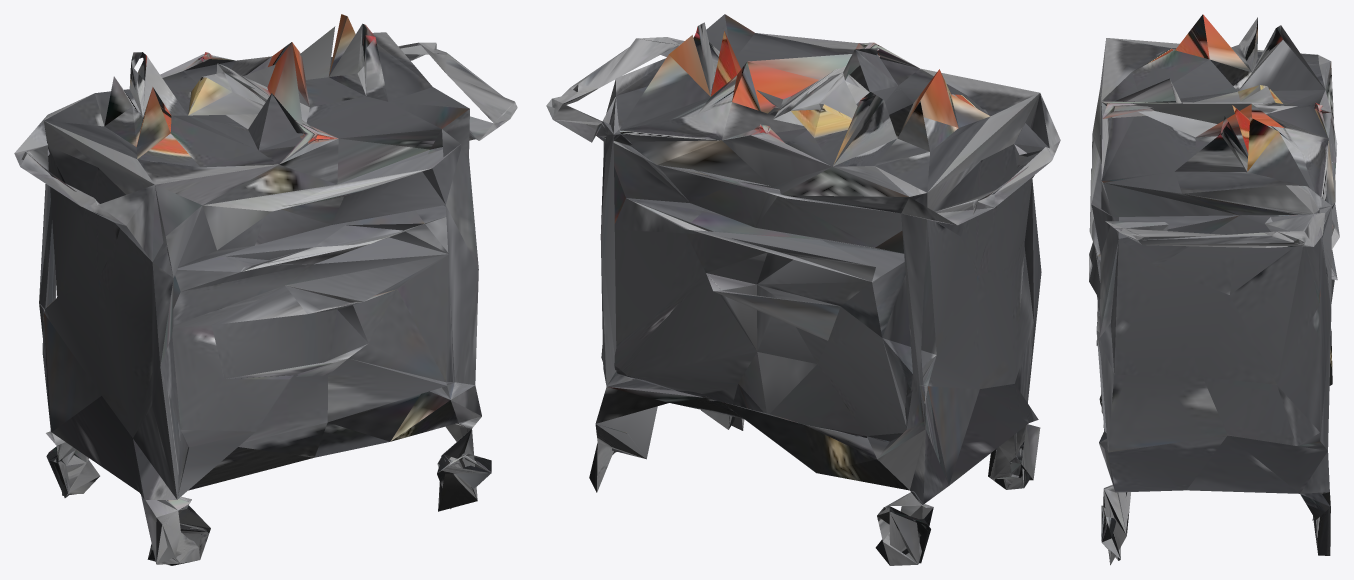
The model's file is tool_cart.glb.
3 views of the same model, side by side, from view 1: azimuth 30°, elevation 25°; view 2: azimuth 150°, elevation 25°; view 3: azimuth 270°, elevation 25° (orthographic). The views are drawn at different scales.
Visible parts, largest first — view 1: prop; view 2: prop; view 3: prop.
Part boxes in pixels (bbox=[...]): prop: bbox=[14, 14, 517, 565]; prop: bbox=[546, 14, 1060, 565]; prop: bbox=[1089, 14, 1339, 565].
Size of the model in its own units: 1.82 by 1.83 by 0.9679.
1 material, 1 textured.
